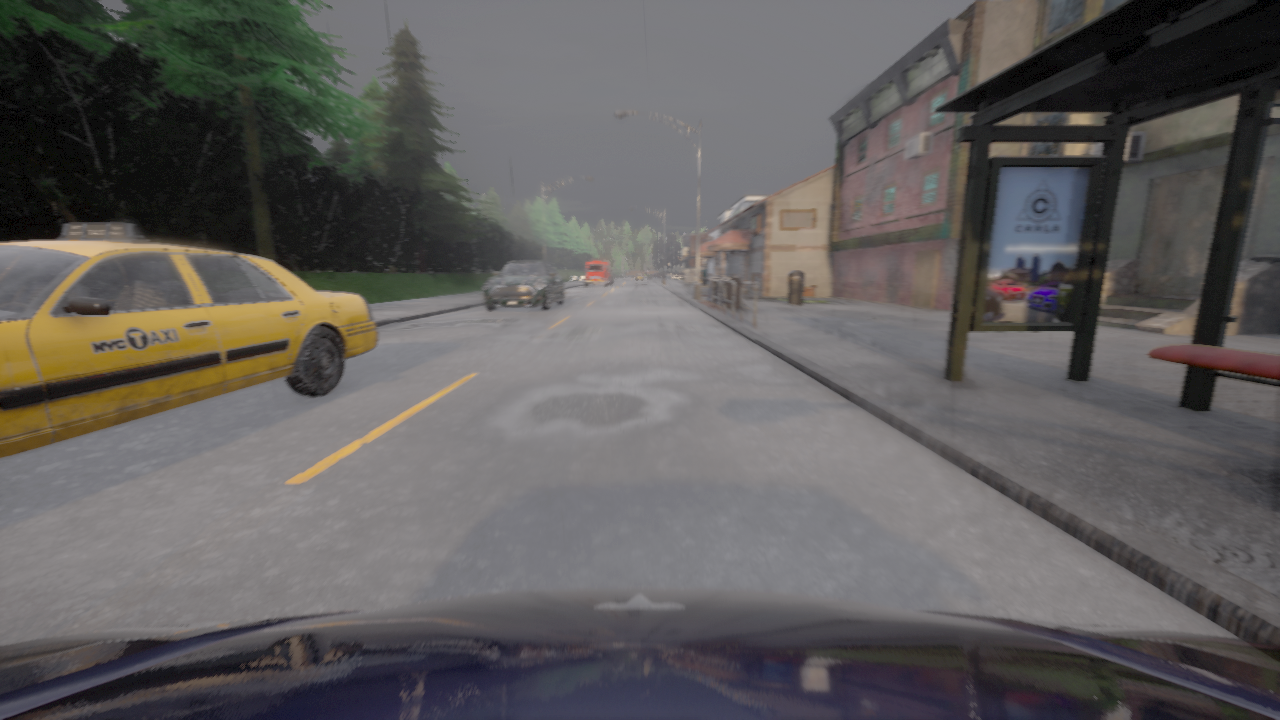cyclist: (0, 588, 1279, 719), (0, 223, 377, 458), (484, 259, 565, 310), (583, 260, 612, 286), (611, 267, 614, 284), (636, 272, 643, 278), (636, 273, 642, 279), (652, 273, 656, 276)
